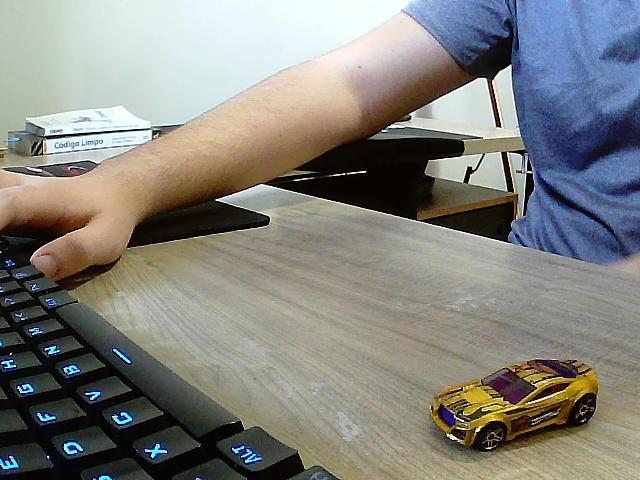Carro: (430, 360, 598, 452)
